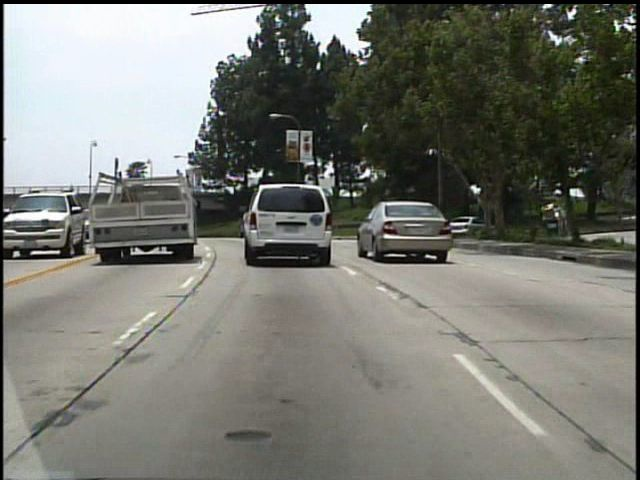person: (67, 180, 78, 200)
